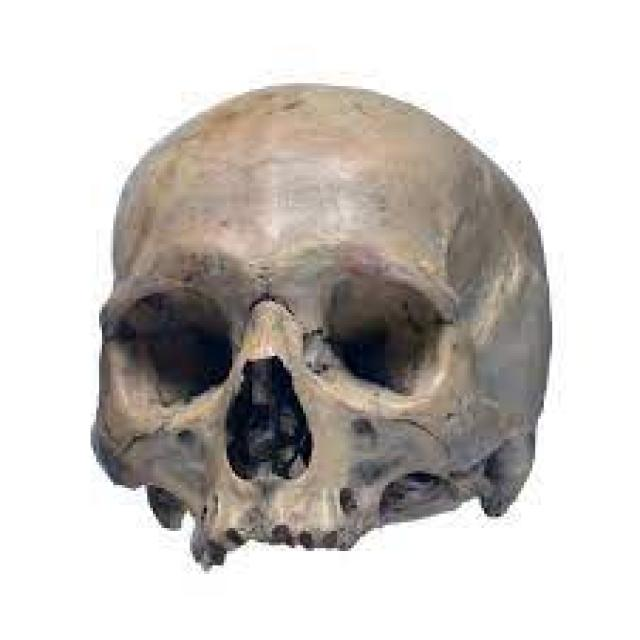skull: (83, 73, 567, 572)
